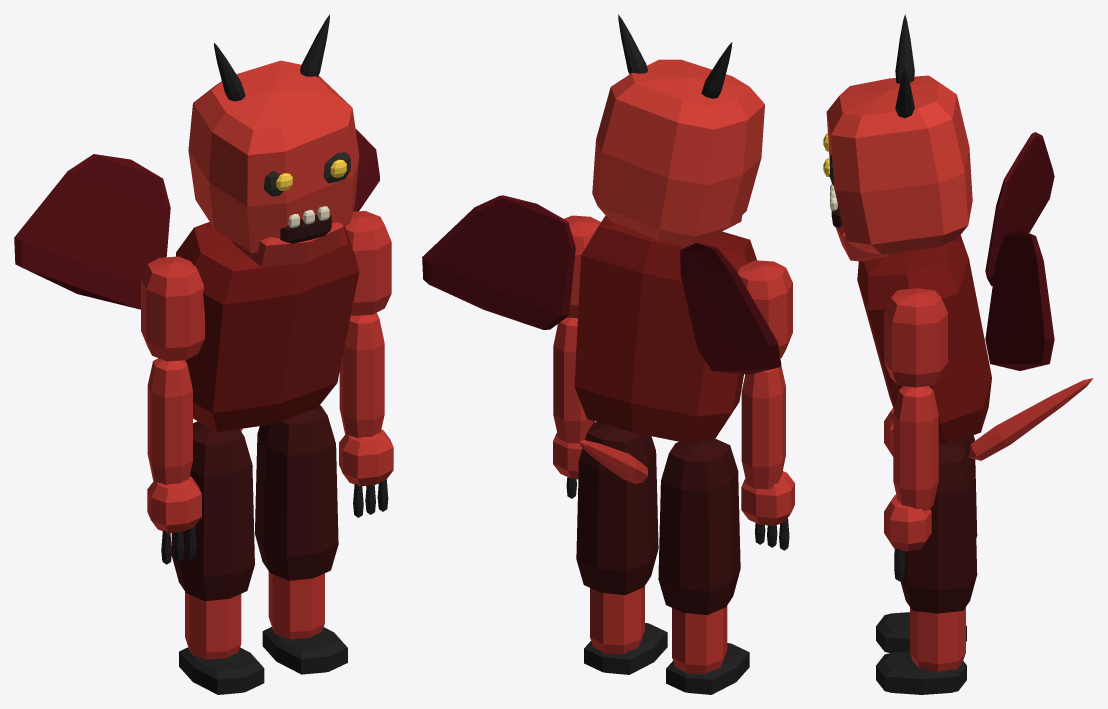
Rendered from mon-demon-1.glb.
3 views of the same model, side by side, from view 1: azimuth 30°, elevation 25°; view 2: azimuth 150°, elevation 25°; view 3: azimuth 270°, elevation 25° (orthographic). The views are drawn at different scales.
Parts seen in each view (by area): view 1: torso, head, leg-left, leg-right, arm-right, arm-left; view 2: torso, head, leg-right, leg-left, arm-right, arm-left; view 3: torso, head, leg-left, arm-left, leg-right.
Part boxes in pixels (x1,y1,x2,y2): torso: [14, 129, 379, 432]; head: [188, 14, 359, 266]; leg-left: [255, 405, 347, 674]; leg-right: [171, 421, 264, 694]; arm-right: [141, 256, 204, 564]; arm-left: [339, 211, 393, 517]; torso: [422, 195, 781, 483]; head: [592, 14, 764, 245]; leg-right: [658, 439, 749, 694]; leg-left: [576, 422, 667, 674]; arm-right: [737, 260, 794, 550]; arm-left: [553, 215, 600, 498]; torso: [857, 132, 1093, 460]; head: [823, 14, 972, 261]; leg-left: [876, 442, 977, 694]; arm-left: [884, 288, 947, 581]; leg-right: [876, 435, 977, 652].
Size of the model in its own units: 1.48 by 2.52 by 0.9884.
